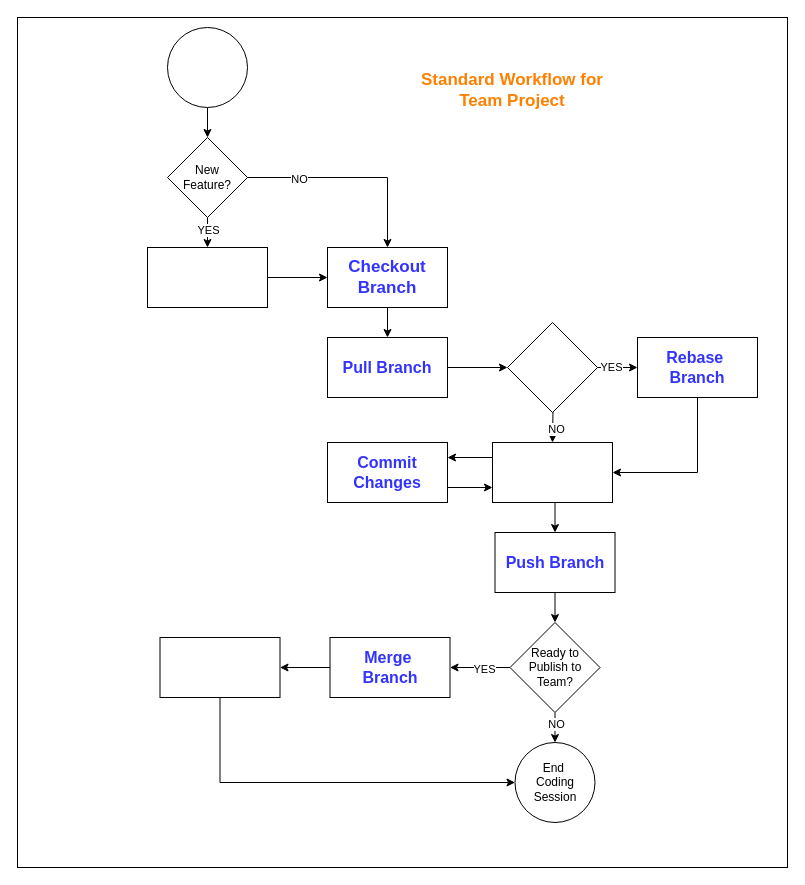
Some shapes in this 805 by 885 pixel diagram are drawn without their labels. Each missing label, with the centre of its shape:
"Create Branch" goes at (x=207, y=277).
"Delete Branch" goes at (x=219, y=667).
"Merge Updates from Main?" goes at (x=552, y=367).
"Starting Coding Session" goes at (x=207, y=67).
"Work on your Project" goes at (x=552, y=472).
